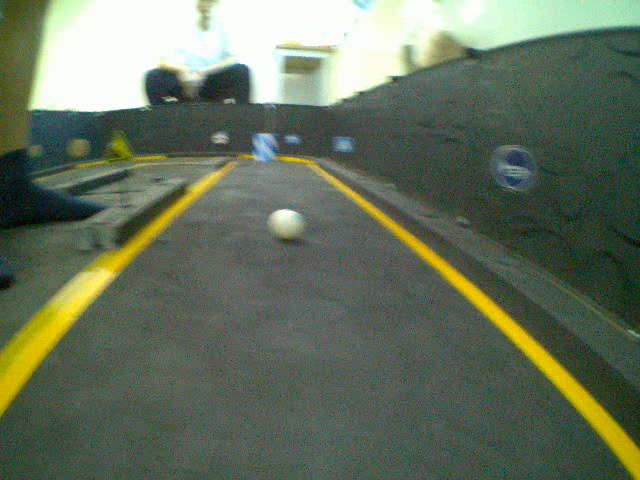ball: (266, 209, 309, 242)
